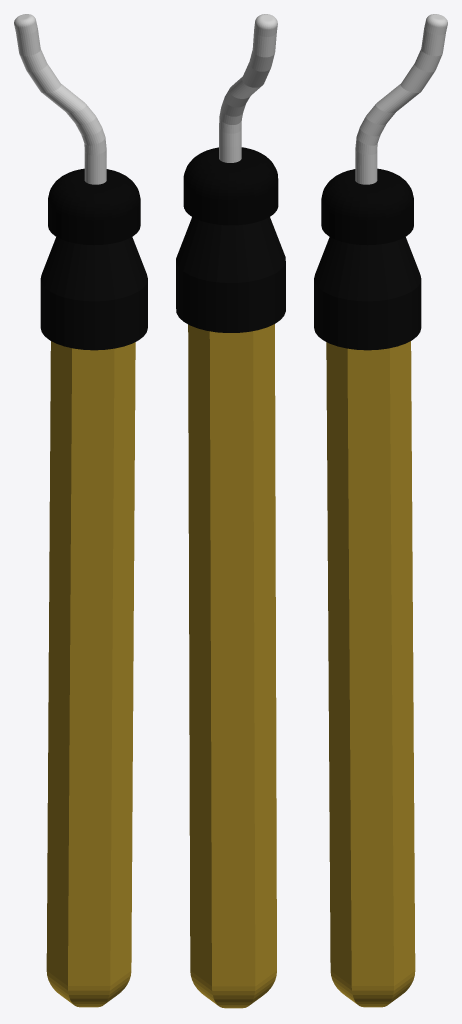
Rendered from 10 nov.fbx.
3 views of the same model, side by side, from view 1: azimuth 90°, elevation 25°; view 2: azimuth 210°, elevation 25°; view 3: azimuth 270°, elevation 25° (orthographic). The views are drawn at different scales.
Parts seen in each view (by area): view 1: Cylinder.004, Cylinder, Cylinder.003, Cylinder.001; view 2: Cylinder.004, Cylinder, Cylinder.003, Cylinder.001; view 3: Cylinder.004, Cylinder, Cylinder.003, Cylinder.001.
Part boxes in pixels (bbox=[...]): Cylinder.004: bbox=[46, 341, 135, 1007]; Cylinder: bbox=[40, 237, 147, 350]; Cylinder.003: bbox=[48, 168, 140, 245]; Cylinder.001: bbox=[14, 14, 106, 184]; Cylinder.004: bbox=[188, 324, 276, 1008]; Cylinder: bbox=[176, 217, 285, 332]; Cylinder.003: bbox=[183, 147, 278, 225]; Cylinder.001: bbox=[219, 14, 277, 162]; Cylinder.004: bbox=[326, 341, 415, 1007]; Cylinder: bbox=[314, 237, 421, 350]; Cylinder.003: bbox=[321, 168, 413, 245]; Cylinder.001: bbox=[355, 14, 447, 184].
Bounding box in the file's own units: 21.02 × 215 × 26.23.
